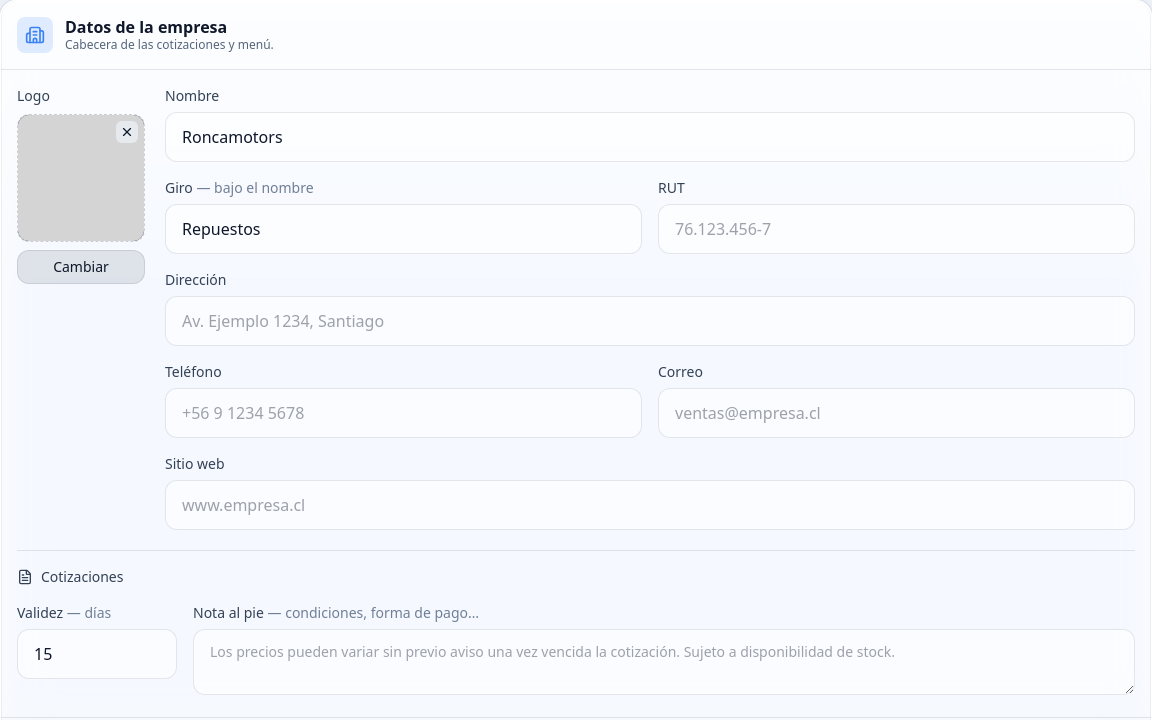
Test: Datos de la empresa › logo: se convierte a data URL y se puede quitar
Earlier steps of the test are not shown.
What coordinates should you click on to do the following:
click the button named "Quitar logo"
I would click on:
 (127, 132)
Its box is [116,121,138,143].
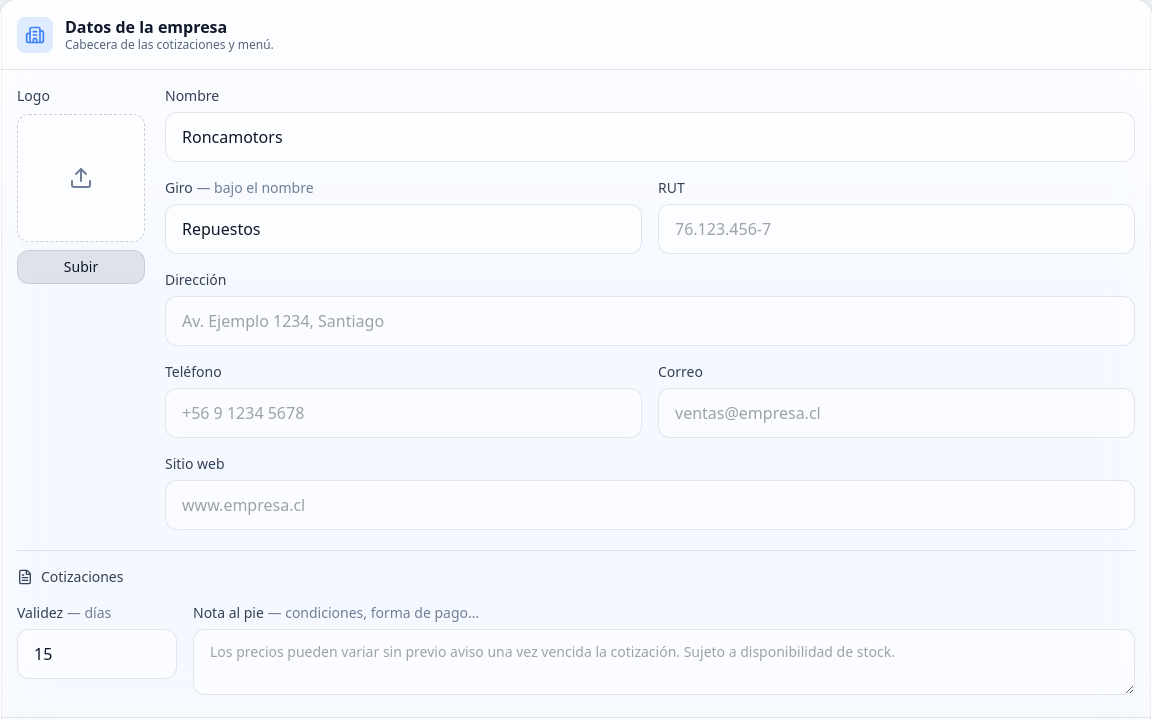
Expected: the picture with alt text "Logo" is gone
